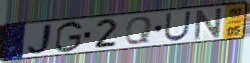2: (94, 18, 120, 49)
G: (53, 20, 84, 54)
J: (25, 22, 55, 56)
N: (193, 7, 224, 42)
Q: (123, 16, 154, 45)
U: (163, 10, 193, 43)
